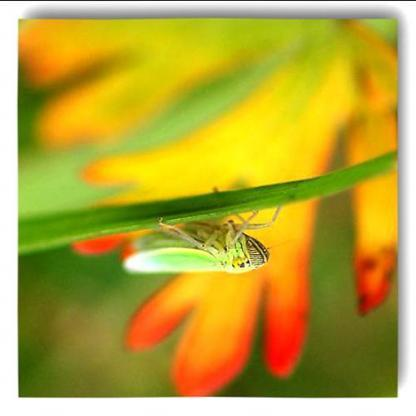green-leafhopper: (122, 209, 280, 274)
